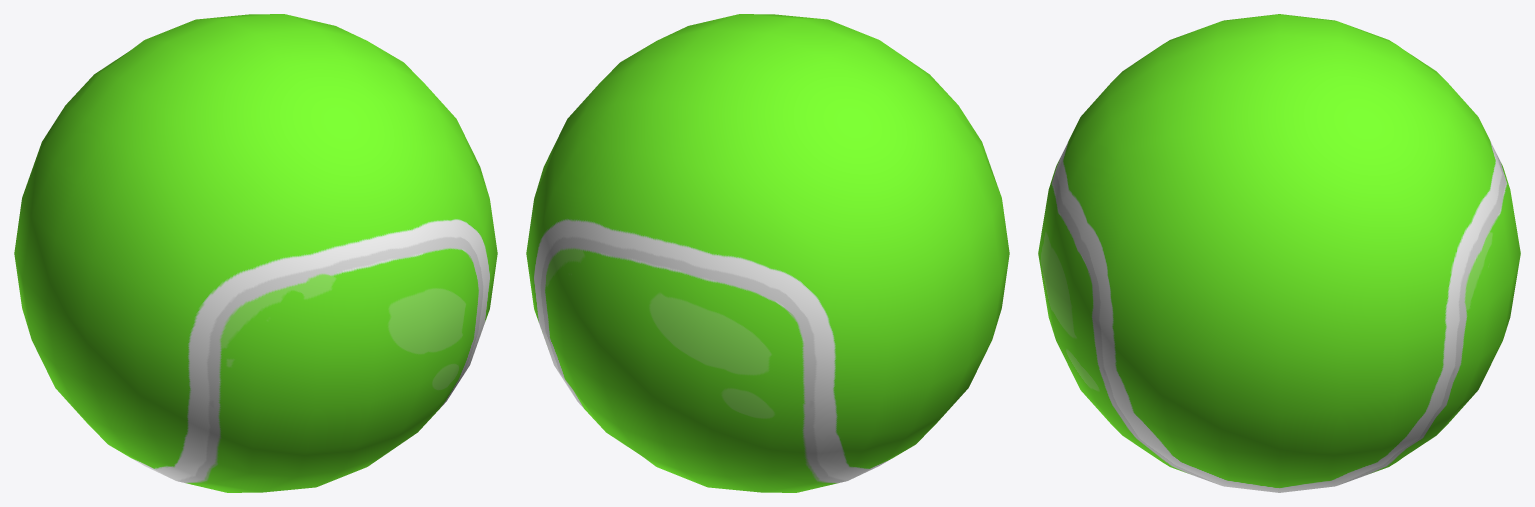
File: TenisBall.fbx
3 renders of one model, left to right at view 1: azimuth 30°, elevation 25°; view 2: azimuth 150°, elevation 25°; view 3: azimuth 270°, elevation 25°, orthographic.
Visible parts, largest first — view 1: Tennis ball; view 2: Tennis ball; view 3: Tennis ball.
Part boxes in pixels (<box>): Tennis ball: <box>14,14,497,492</box>; Tennis ball: <box>526,14,1009,492</box>; Tennis ball: <box>1038,14,1520,492</box>.
Bounding box in the file's own units: 41.51 × 41.51 × 41.51.
Materials: 1 (1 with a texture image).
